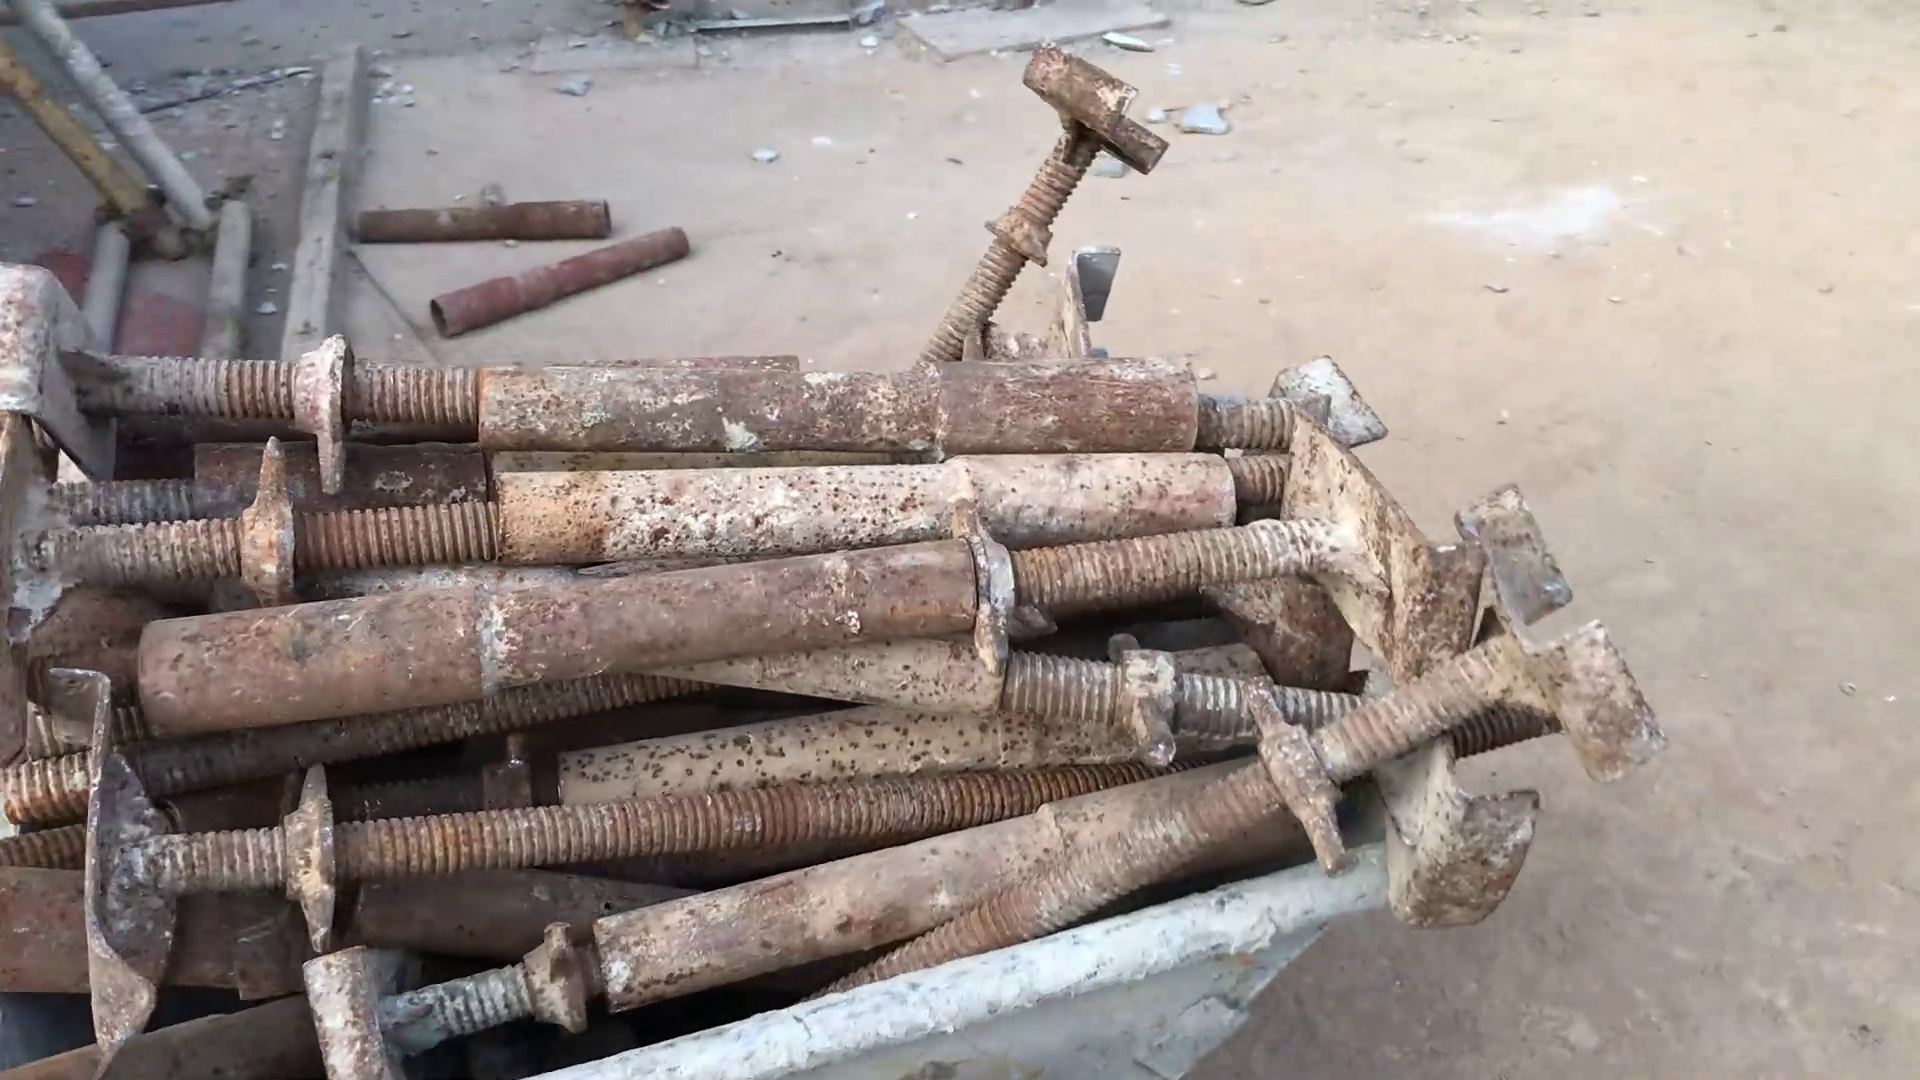handcart: (15, 343, 1437, 1080)
